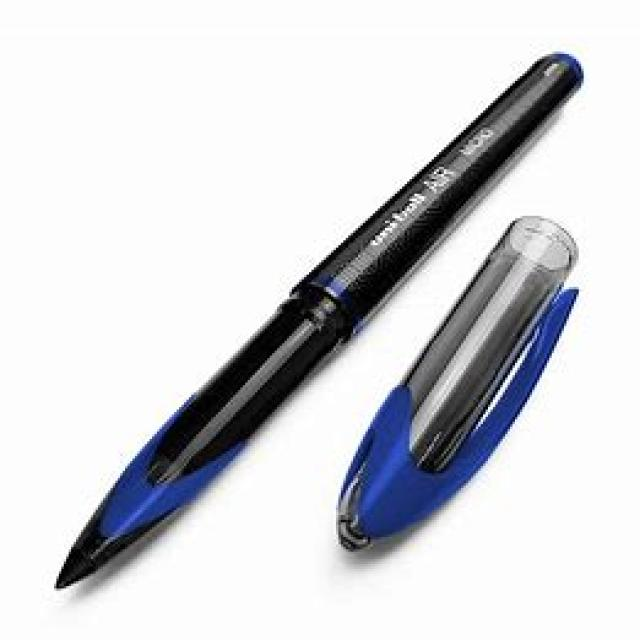pen: (51, 51, 587, 597)
